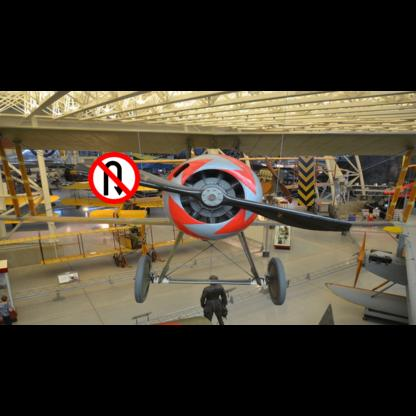O-MP: (298, 156, 314, 206)
